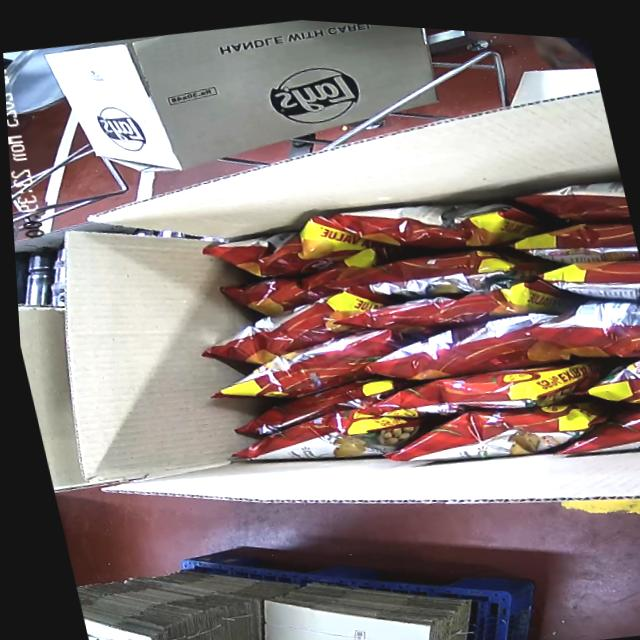MASALA: (171, 148, 640, 520)
